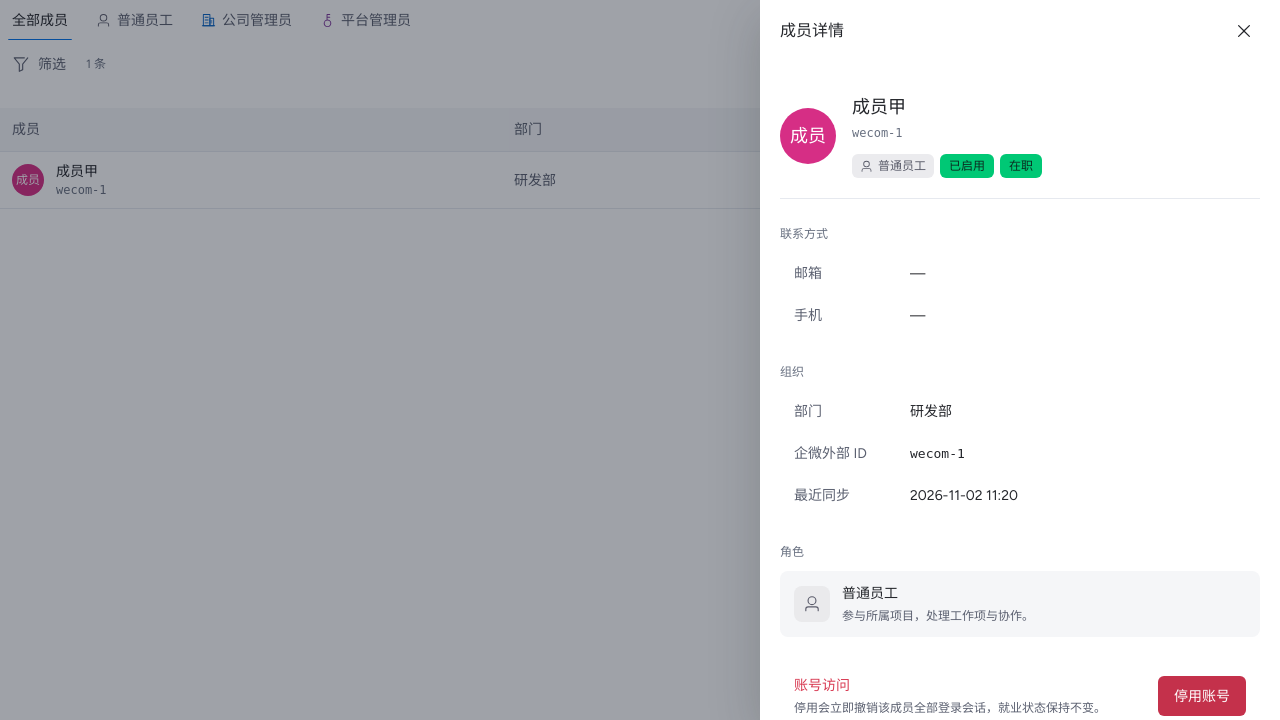
成员版本冲突 › 重新认证返回时打开目标成员详情，复核后可以成功停用
Click the button "停用账号" at (1202, 696), box x1=1158 y1=676 x2=1246 y2=716
(page scrolled)
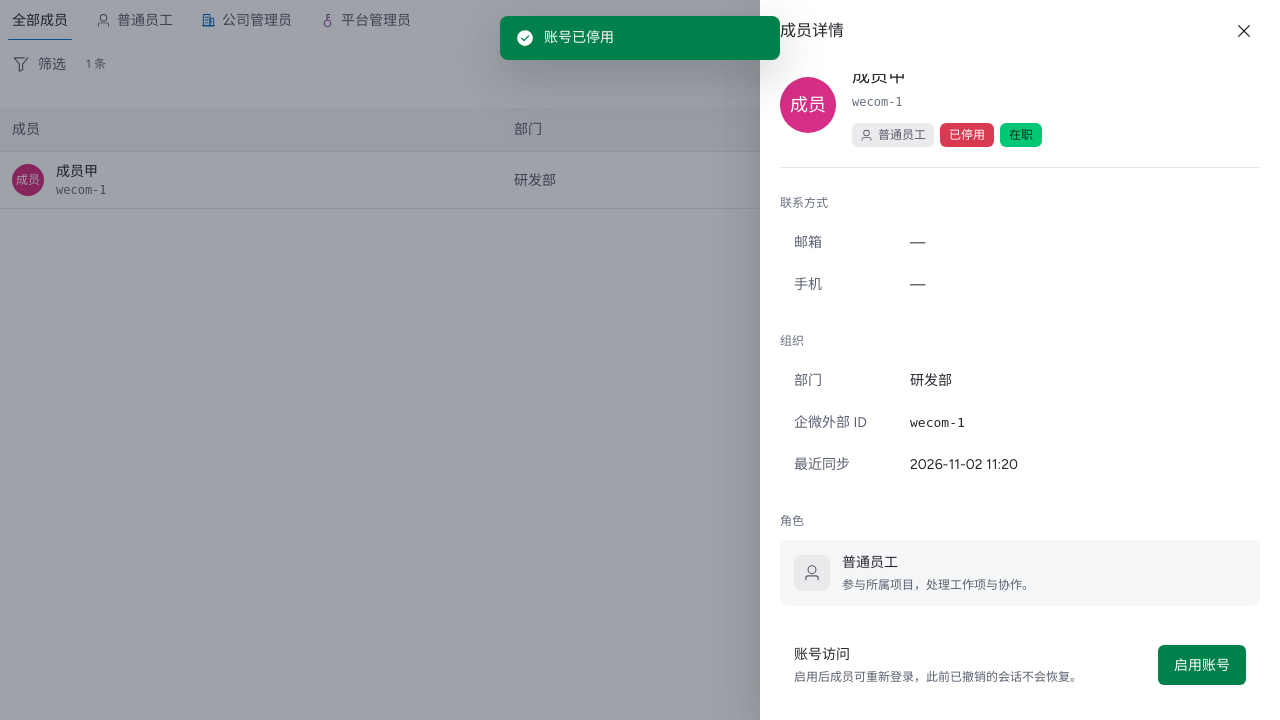
Now the element with class "member-profile__access" shows "启用账号", box x1=1158 y1=645 x2=1246 y2=685
